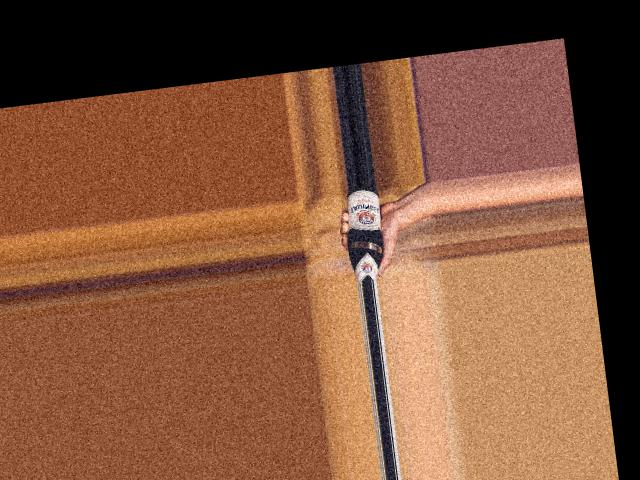beer: (341, 187, 389, 281)
